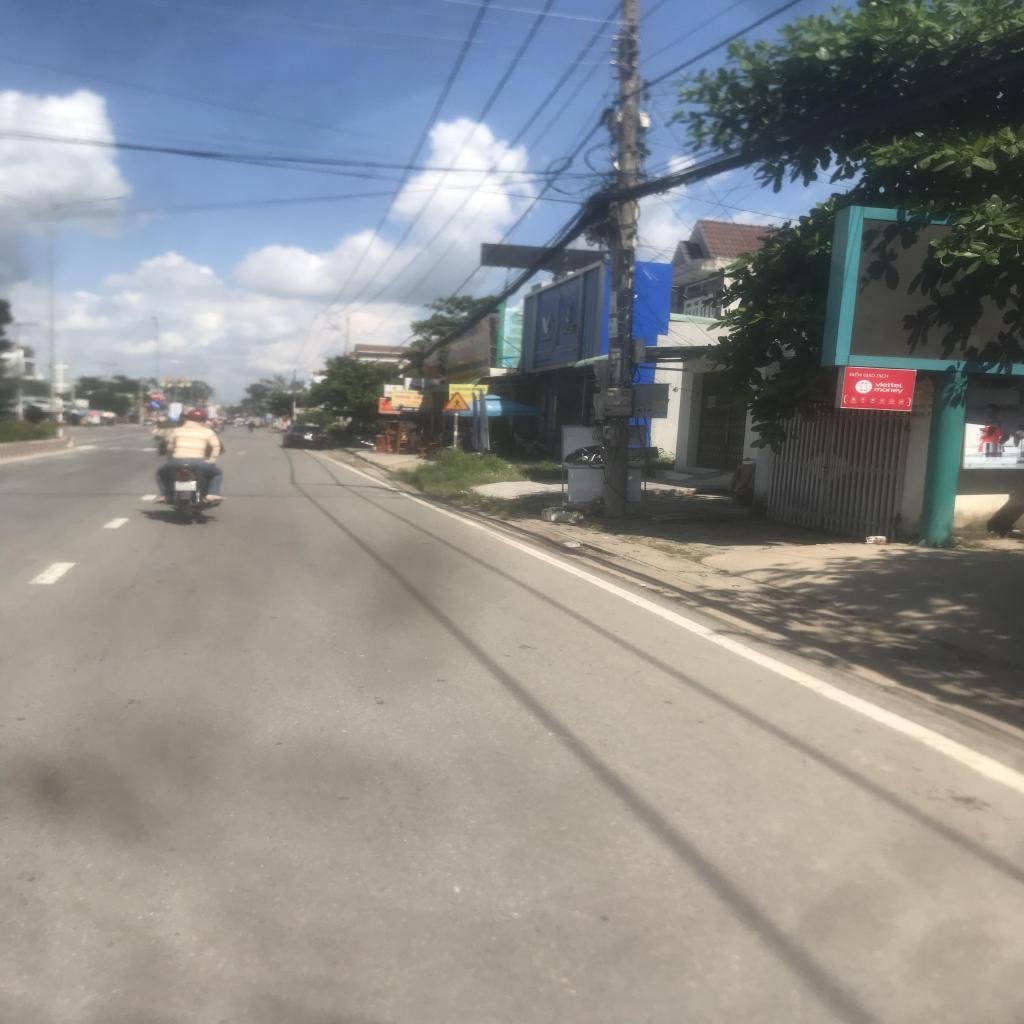cam_xe_di_nguoc_chieu: (149, 392, 161, 401)
chu_y_nguoi_di_bo_cat_ngang: (441, 389, 472, 410)
huong_phai_di_vuot_chuong_ngai_vat_phai: (150, 400, 162, 408)
